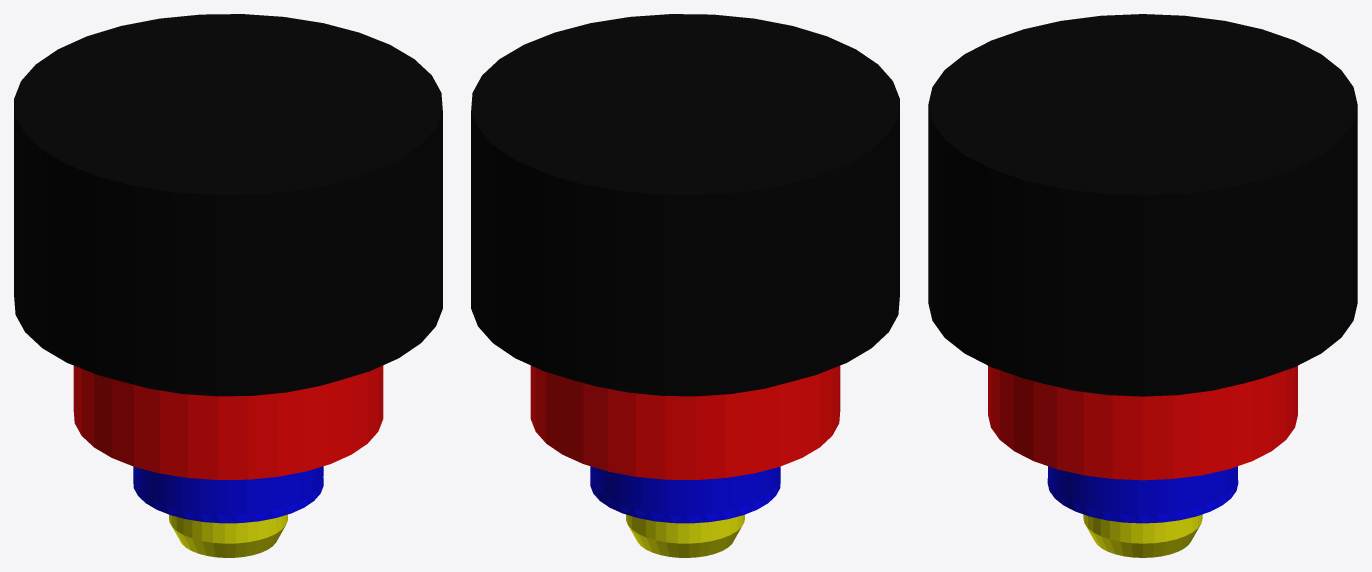
File: bettertargetbottom.fbx
3 renders of one model, left to right at view 1: azimuth 30°, elevation 25°; view 2: azimuth 150°, elevation 25°; view 3: azimuth 270°, elevation 25°, orthographic.
Parts seen in each view (by area): view 1: leg.top, leg.mid, leg.bottom, point; view 2: leg.top, leg.mid, leg.bottom, point; view 3: leg.top, leg.mid, leg.bottom, point.
Part boxes in pixels (x1,y1,x2,y2): leg.top: (14, 14, 442, 396); leg.mid: (73, 365, 383, 479); leg.bottom: (133, 466, 323, 523); point: (169, 514, 287, 557); leg.top: (471, 14, 899, 396); leg.mid: (530, 365, 840, 479); leg.bottom: (590, 466, 780, 523); point: (626, 514, 744, 557); leg.top: (928, 14, 1357, 396); leg.mid: (988, 366, 1297, 480); leg.bottom: (1047, 466, 1238, 523); point: (1083, 514, 1202, 557).
Size of the model in its own units: 360 by 400 by 360.
